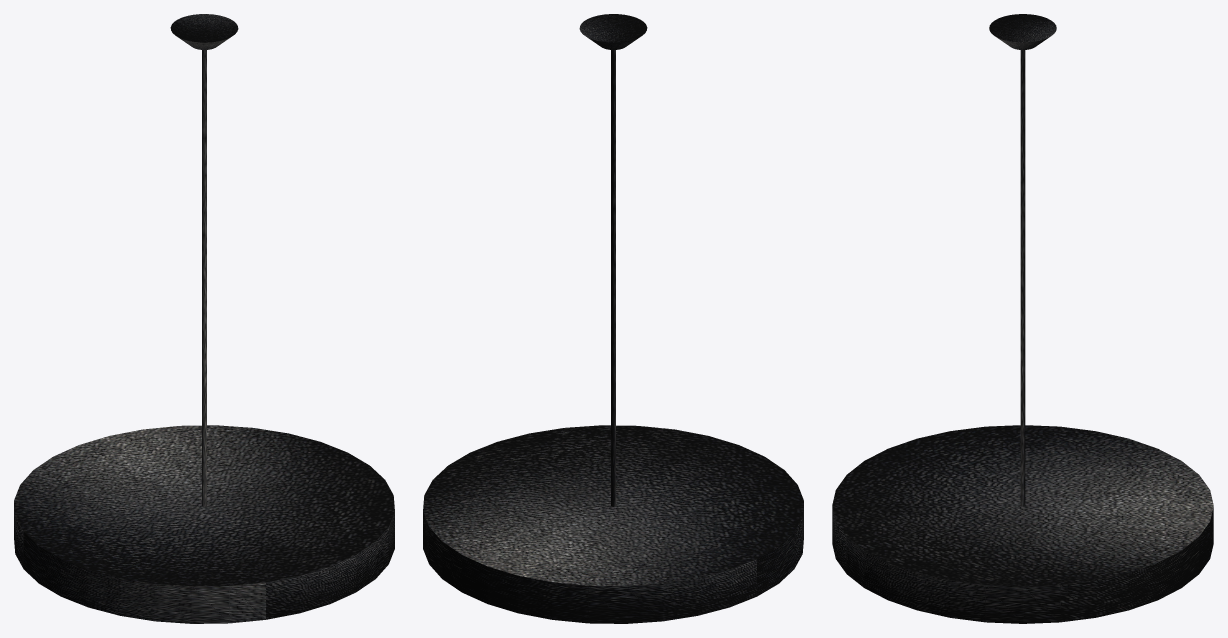
Rendered from lampsCafeteria.fbx.
The picture shows the model from 3 angles, left to right: view 1: azimuth 30°, elevation 25°; view 2: azimuth 150°, elevation 25°; view 3: azimuth 270°, elevation 25°; orthographic projection.
Parts seen in each view (by area): view 1: Cylinder, Cylinder.001, Cylinder.002; view 2: Cylinder, Cylinder.001, Cylinder.002; view 3: Cylinder, Cylinder.001, Cylinder.002.
Part boxes in pixels (x1,y1,x2,y2): Cylinder: [14, 425, 394, 623]; Cylinder.001: [202, 50, 206, 506]; Cylinder.002: [170, 14, 238, 49]; Cylinder: [423, 425, 803, 623]; Cylinder.001: [611, 50, 615, 506]; Cylinder.002: [579, 14, 647, 49]; Cylinder: [832, 425, 1213, 623]; Cylinder.001: [1020, 50, 1025, 506]; Cylinder.002: [989, 14, 1056, 49].
Bounding box in the file's own units: 200 × 298 × 200.
